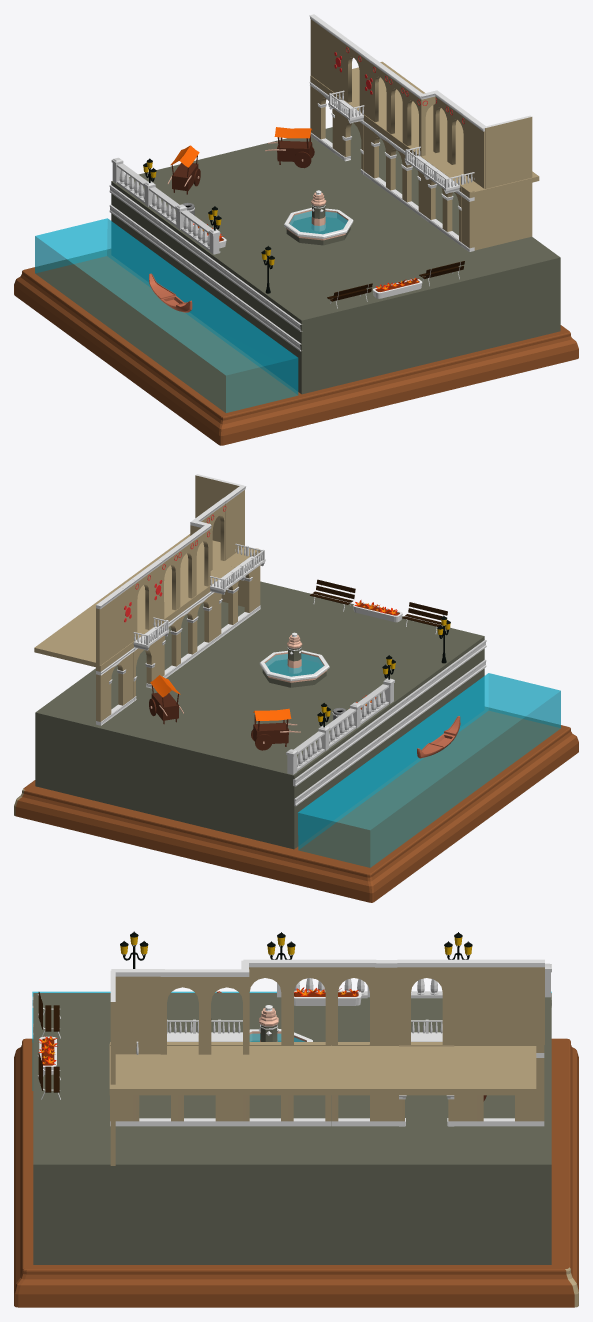
Rendered from Level1.FBX.
3 views of the same model, one above another, from view 1: azimuth 30°, elevation 25°; view 2: azimuth 150°, elevation 25°; view 3: azimuth 270°, elevation 25° (orthographic). The views are drawn at different scales.
Parts seen in each view (by area): view 1: Cylinder012; view 2: Cylinder012; view 3: Cylinder012.
Boxes of the visible parts, box(x1,y1,x2,y2) form: Cylinder012: box(14, 14, 578, 445); Cylinder012: box(14, 474, 578, 902); Cylinder012: box(14, 931, 578, 1307).
Bounding box in the file's own units: 336 × 195 × 336.
